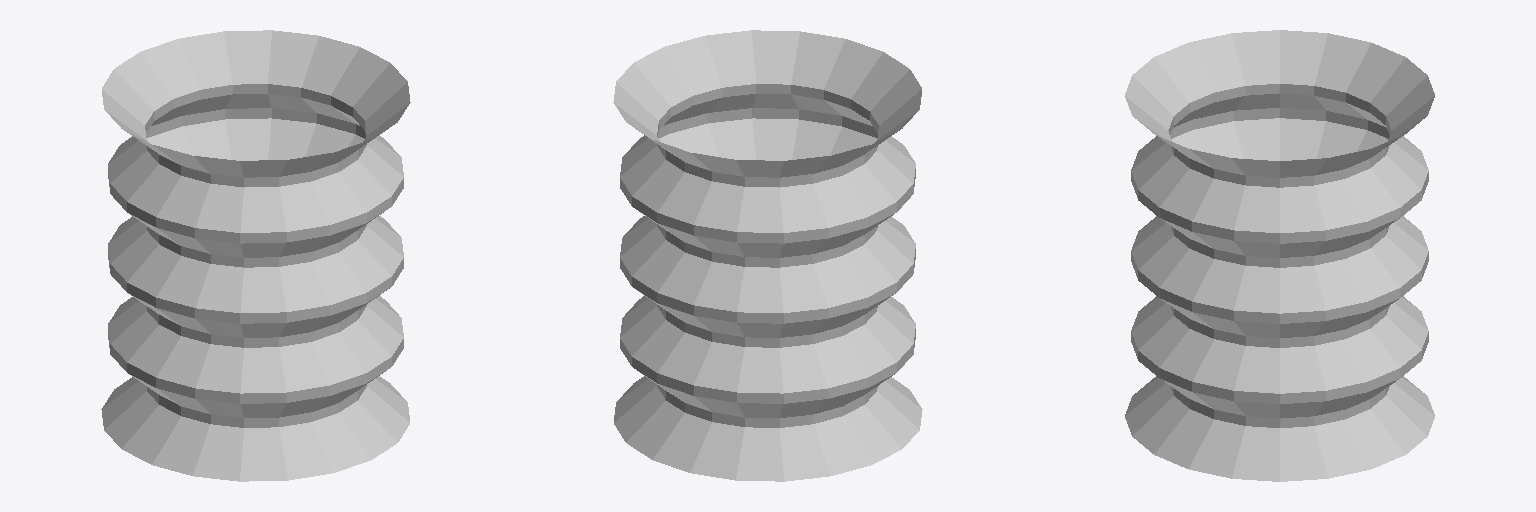
Rendered from WaterPumpBellows.obj.
3 views of the same model, side by side, from view 1: azimuth 30°, elevation 25°; view 2: azimuth 150°, elevation 25°; view 3: azimuth 270°, elevation 25° (orthographic).
Visible parts, largest first — view 1: WaterPumpBellows WaterPumpPARTS_TOENGINE; view 2: WaterPumpBellows WaterPumpPARTS_TOENGINE; view 3: WaterPumpBellows WaterPumpPARTS_TOENGINE.
Boxes of the visible parts, x1,y1,x2,y2 form: WaterPumpBellows WaterPumpPARTS_TOENGINE: [101, 30, 410, 481]; WaterPumpBellows WaterPumpPARTS_TOENGINE: [613, 30, 922, 481]; WaterPumpBellows WaterPumpPARTS_TOENGINE: [1125, 30, 1434, 481].
Size of the model in its own units: 1.95 by 2.23 by 1.95.